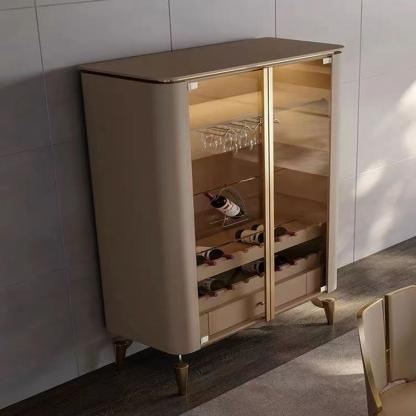Cupboard: (75, 33, 346, 394)
